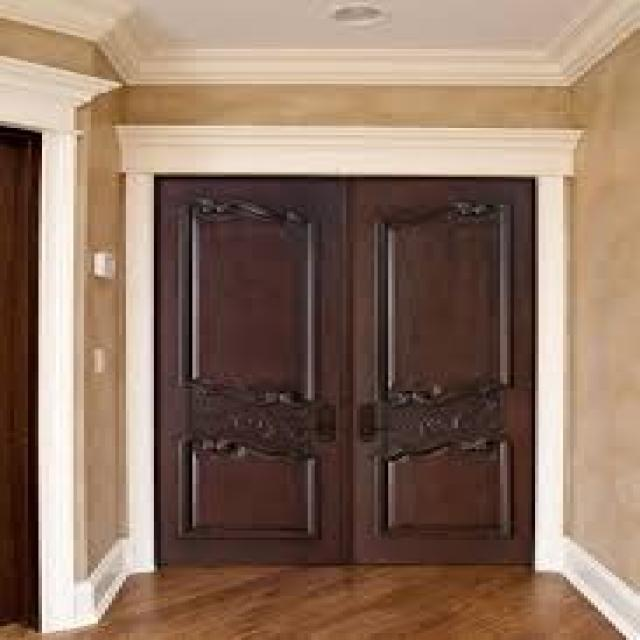door: (137, 161, 550, 581)
